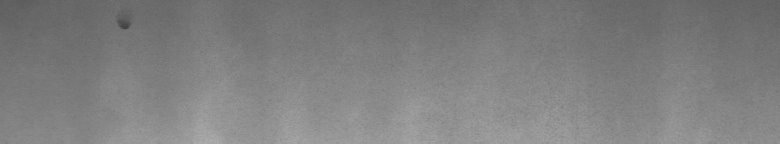fi: (113, 16, 132, 36)
